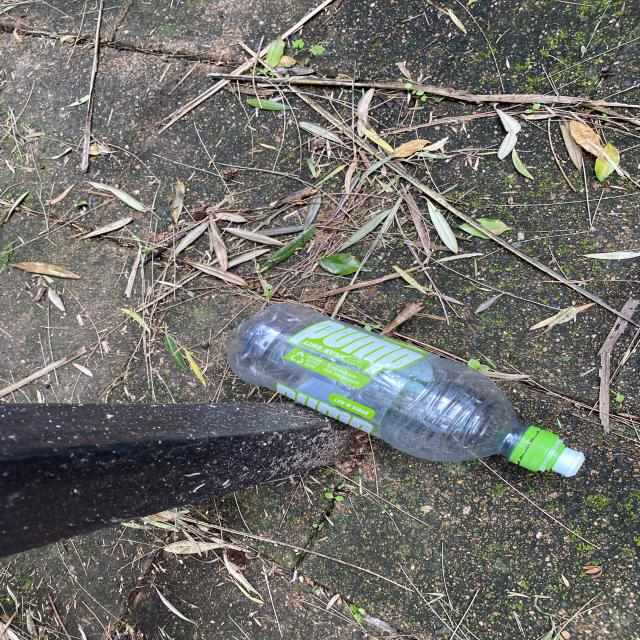bottle: (222, 302, 580, 472)
